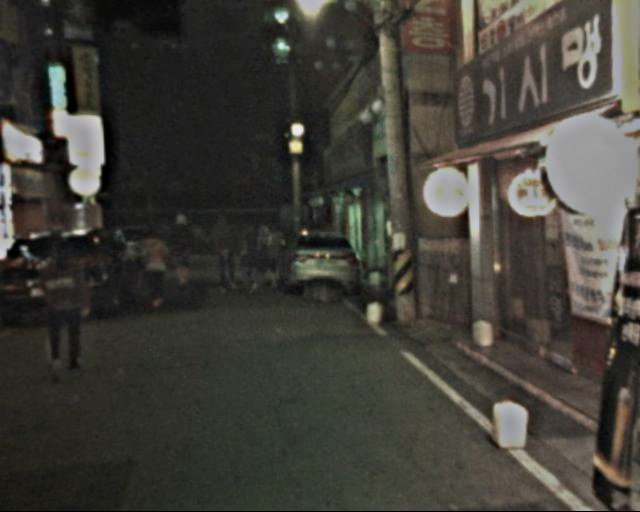person: (47, 237, 97, 362), (210, 213, 241, 296), (136, 226, 168, 299), (235, 220, 264, 299), (169, 215, 199, 288), (260, 224, 284, 287)
